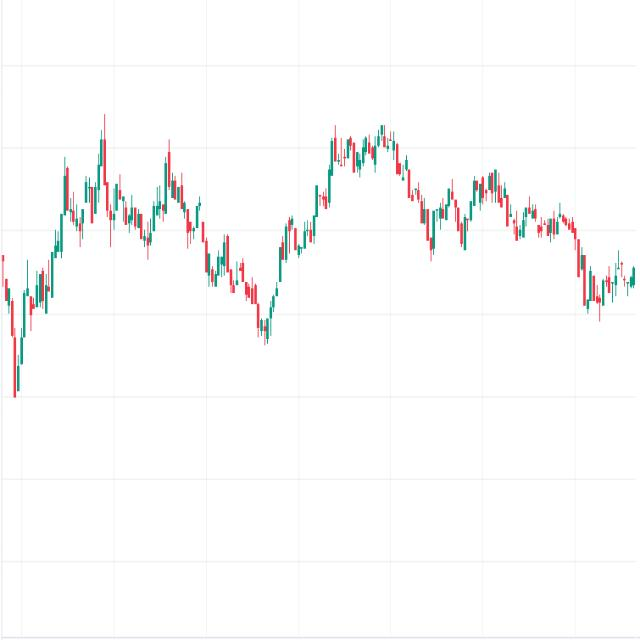Rising-Wedge: (227, 153, 340, 377)
